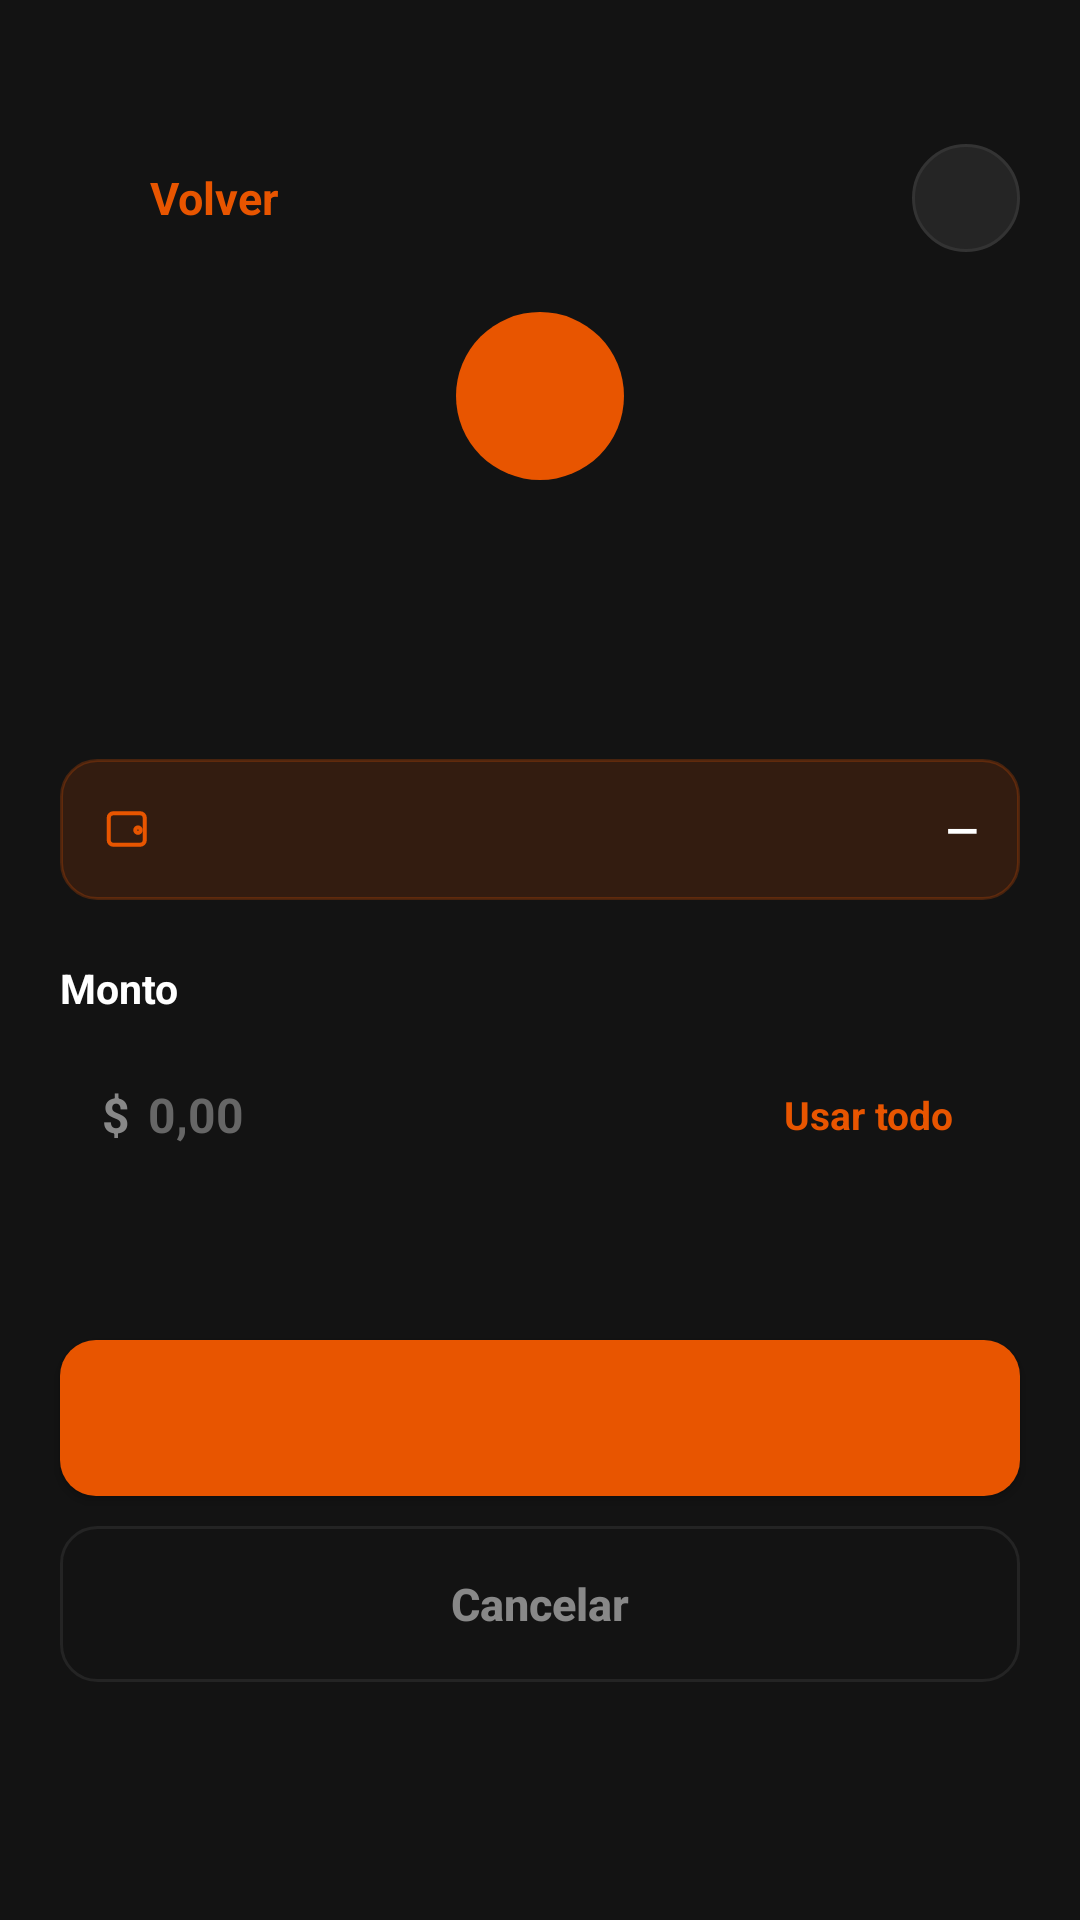

Named icons in this screenshot (1080w x 1920h) and their centers, (x,y):
wallet: (126,829)
